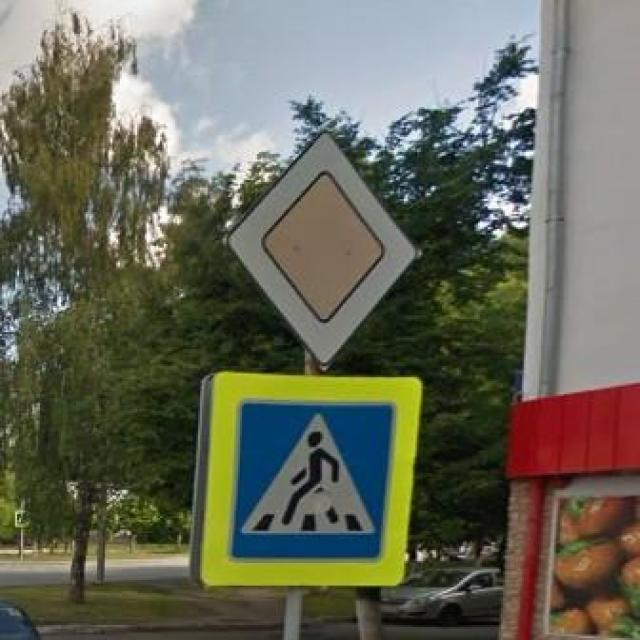Droga z pierwszenstwem: (225, 129, 419, 368)
Przejscie dla pieszych: (204, 370, 423, 589)
